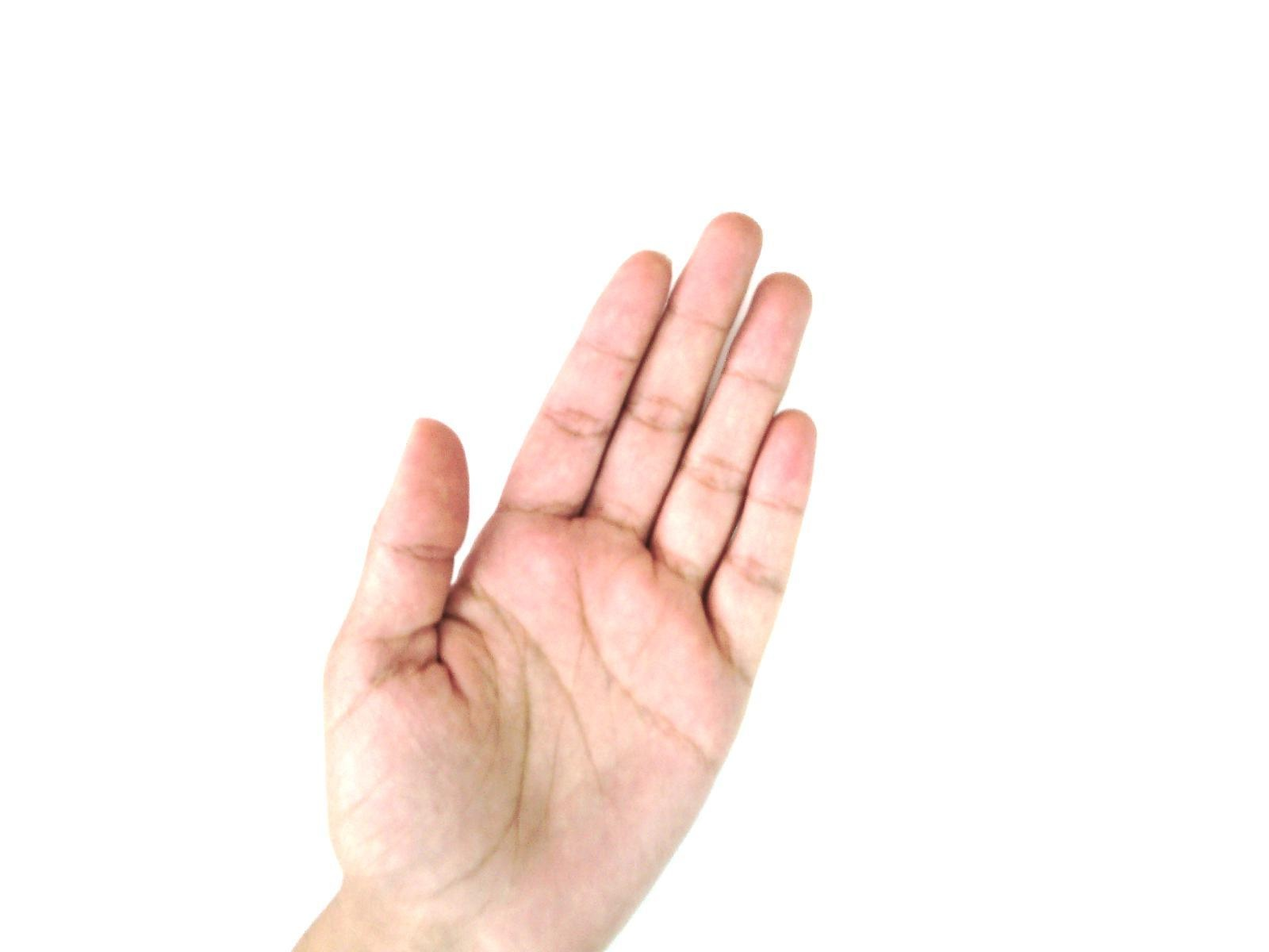open_palm: (292, 210, 822, 951)
